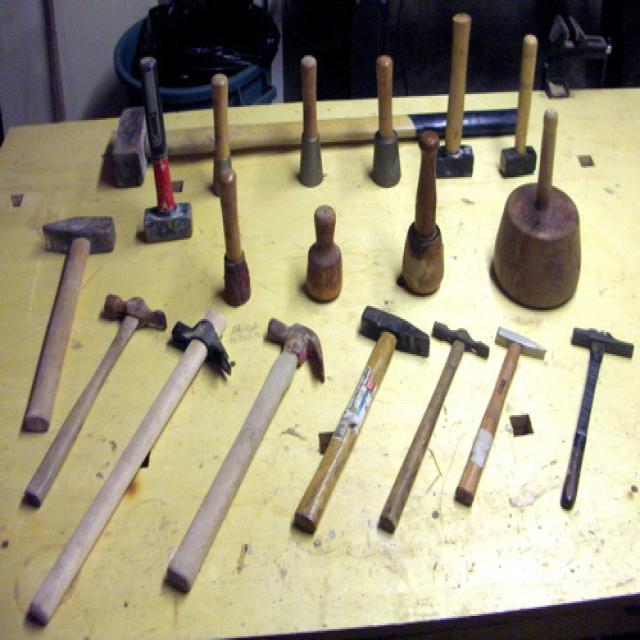hammer: (36, 308, 242, 632), (156, 308, 336, 610), (296, 302, 437, 548), (21, 288, 167, 520), (374, 314, 494, 552), (8, 204, 124, 436), (451, 318, 552, 522), (121, 38, 206, 262), (553, 318, 640, 524), (423, 2, 488, 206), (491, 28, 550, 199)
